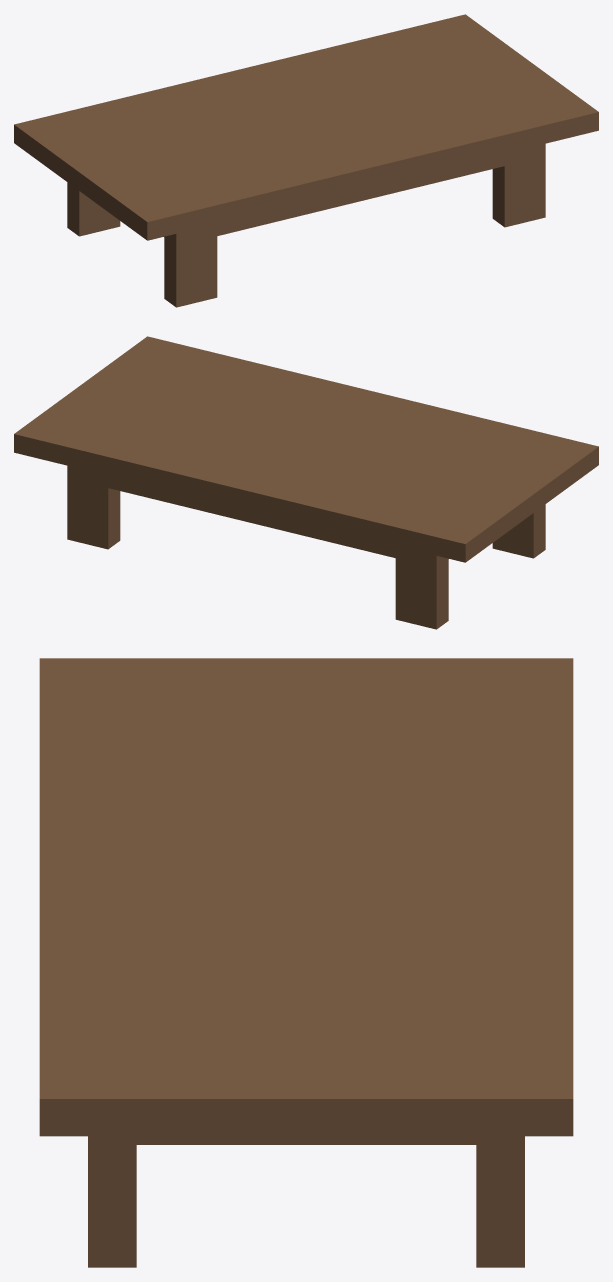
File: Table.fbx
3 renders of one model, top to bottom at view 1: azimuth 30°, elevation 25°; view 2: azimuth 150°, elevation 25°; view 3: azimuth 270°, elevation 25°, orthographic. The views are drawn at different scales.
Parts seen in each view (by area): view 1: Table; view 2: Table; view 3: Table.
Boxes of the visible parts, x1,y1,x2,y2 form: Table: [14, 14, 598, 307]; Table: [14, 336, 598, 629]; Table: [39, 658, 573, 1267].
Size of the model in its own units: 5082 by 1122 by 2602.
Materials: 1 (1 with a texture image).
